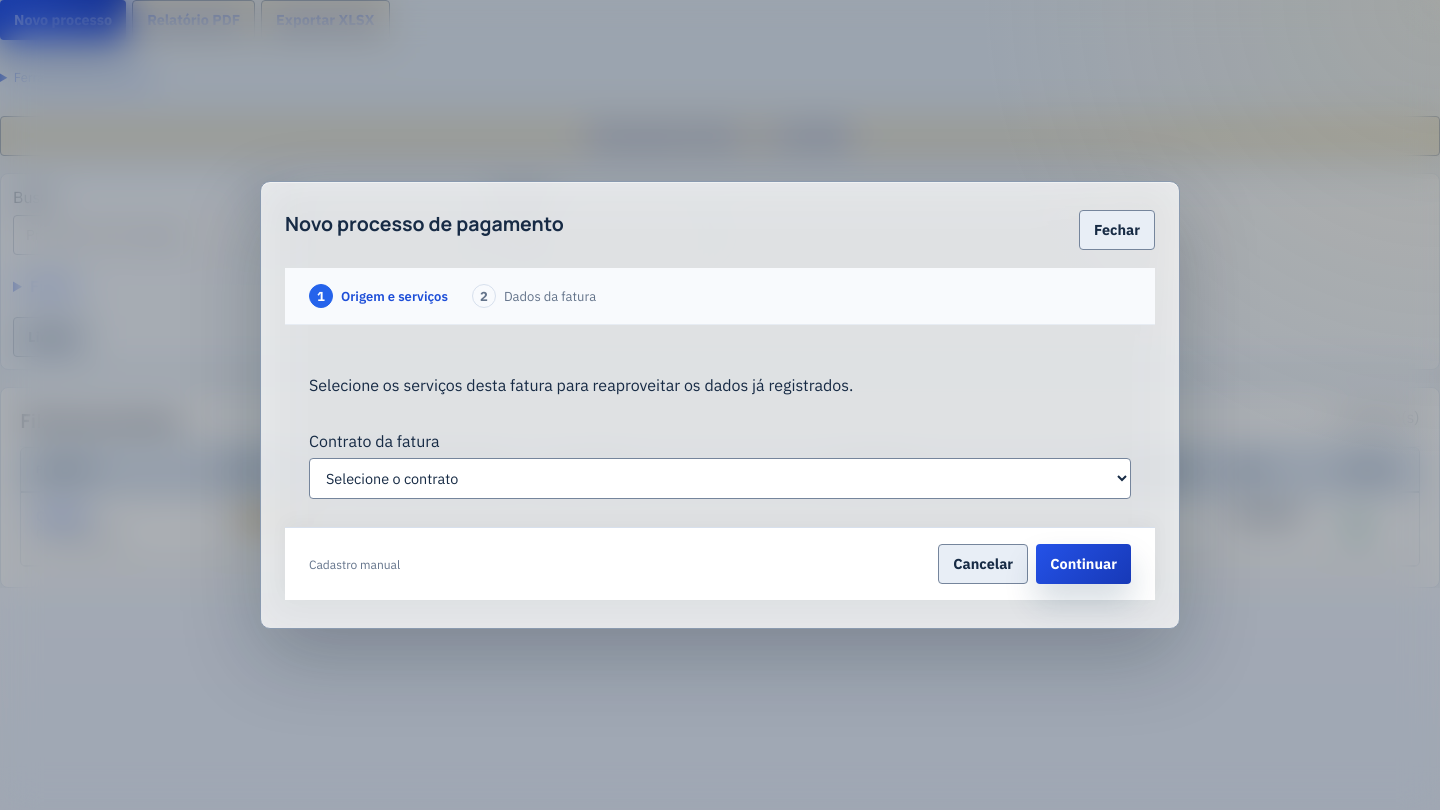
Scenario: abre um rascunho no contexto do serviço e consome o link ao fechar, sem gravar
The width and height of the screenshot is (1440, 810).
Step 1. Click the button "Fechar" → [1117, 230], box top-left (1079, 210), bottom-right (1155, 250)
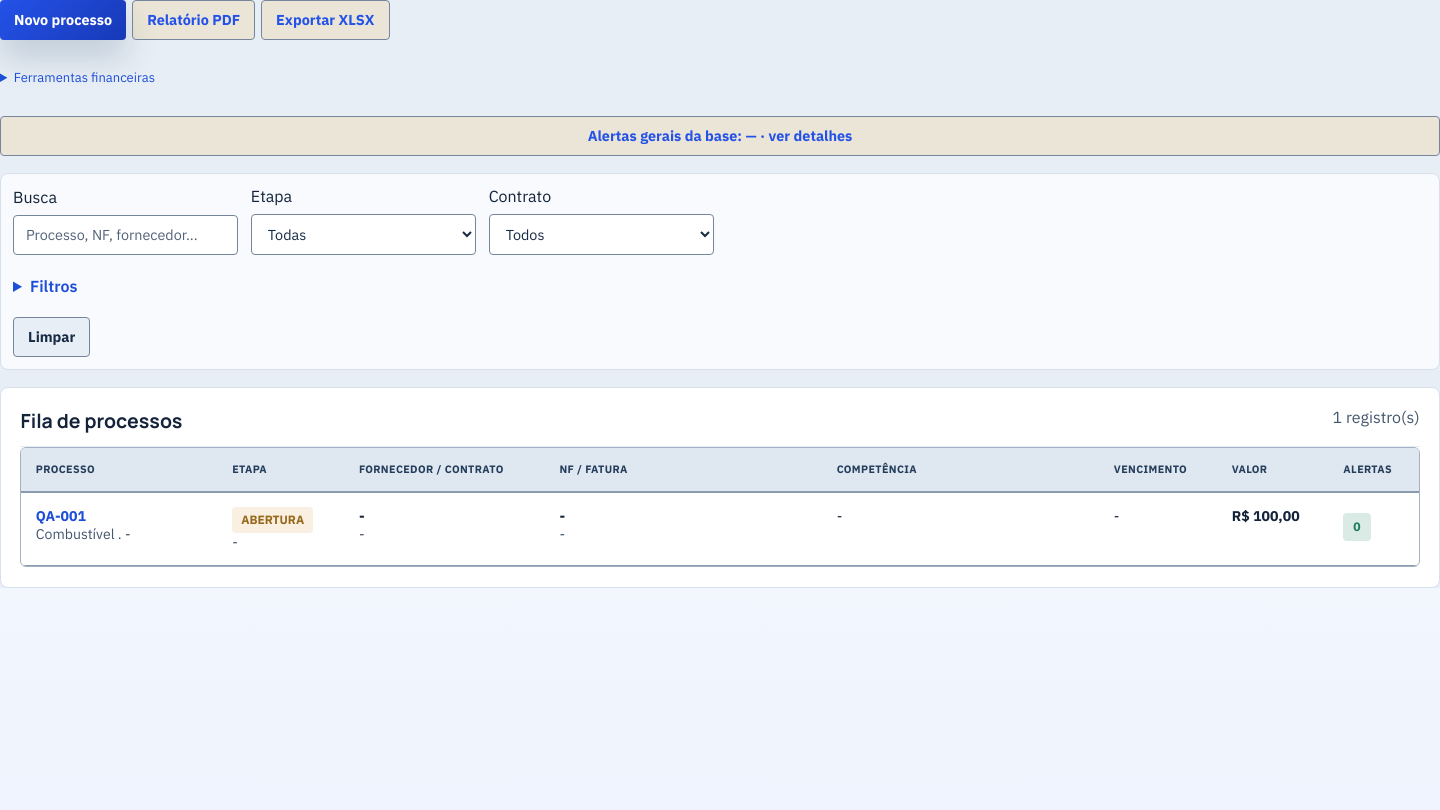
Expected: the heading "Novo processo de pagamento" is gone
